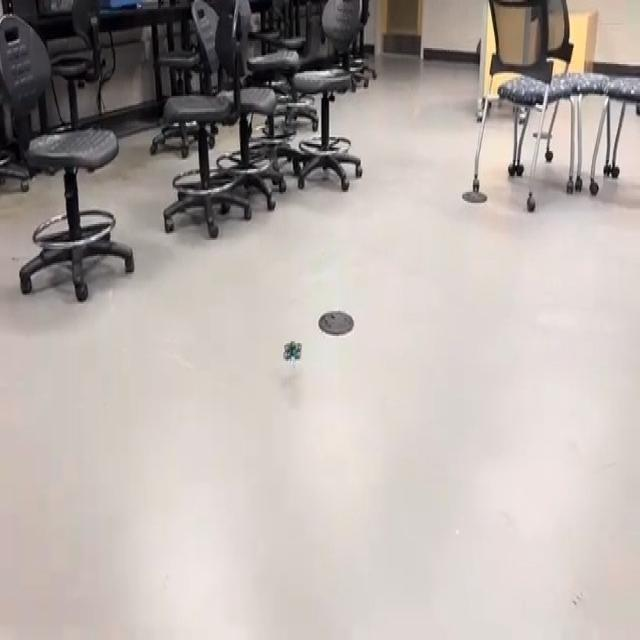drone: (274, 325, 308, 373)
